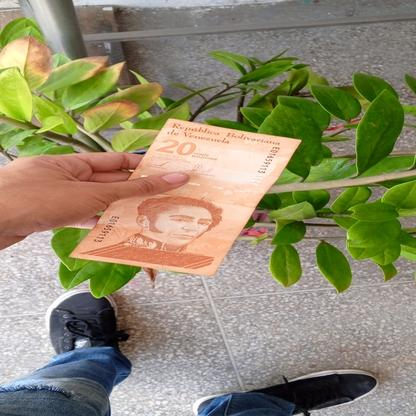twenty-front-vef: (68, 116, 302, 278)
